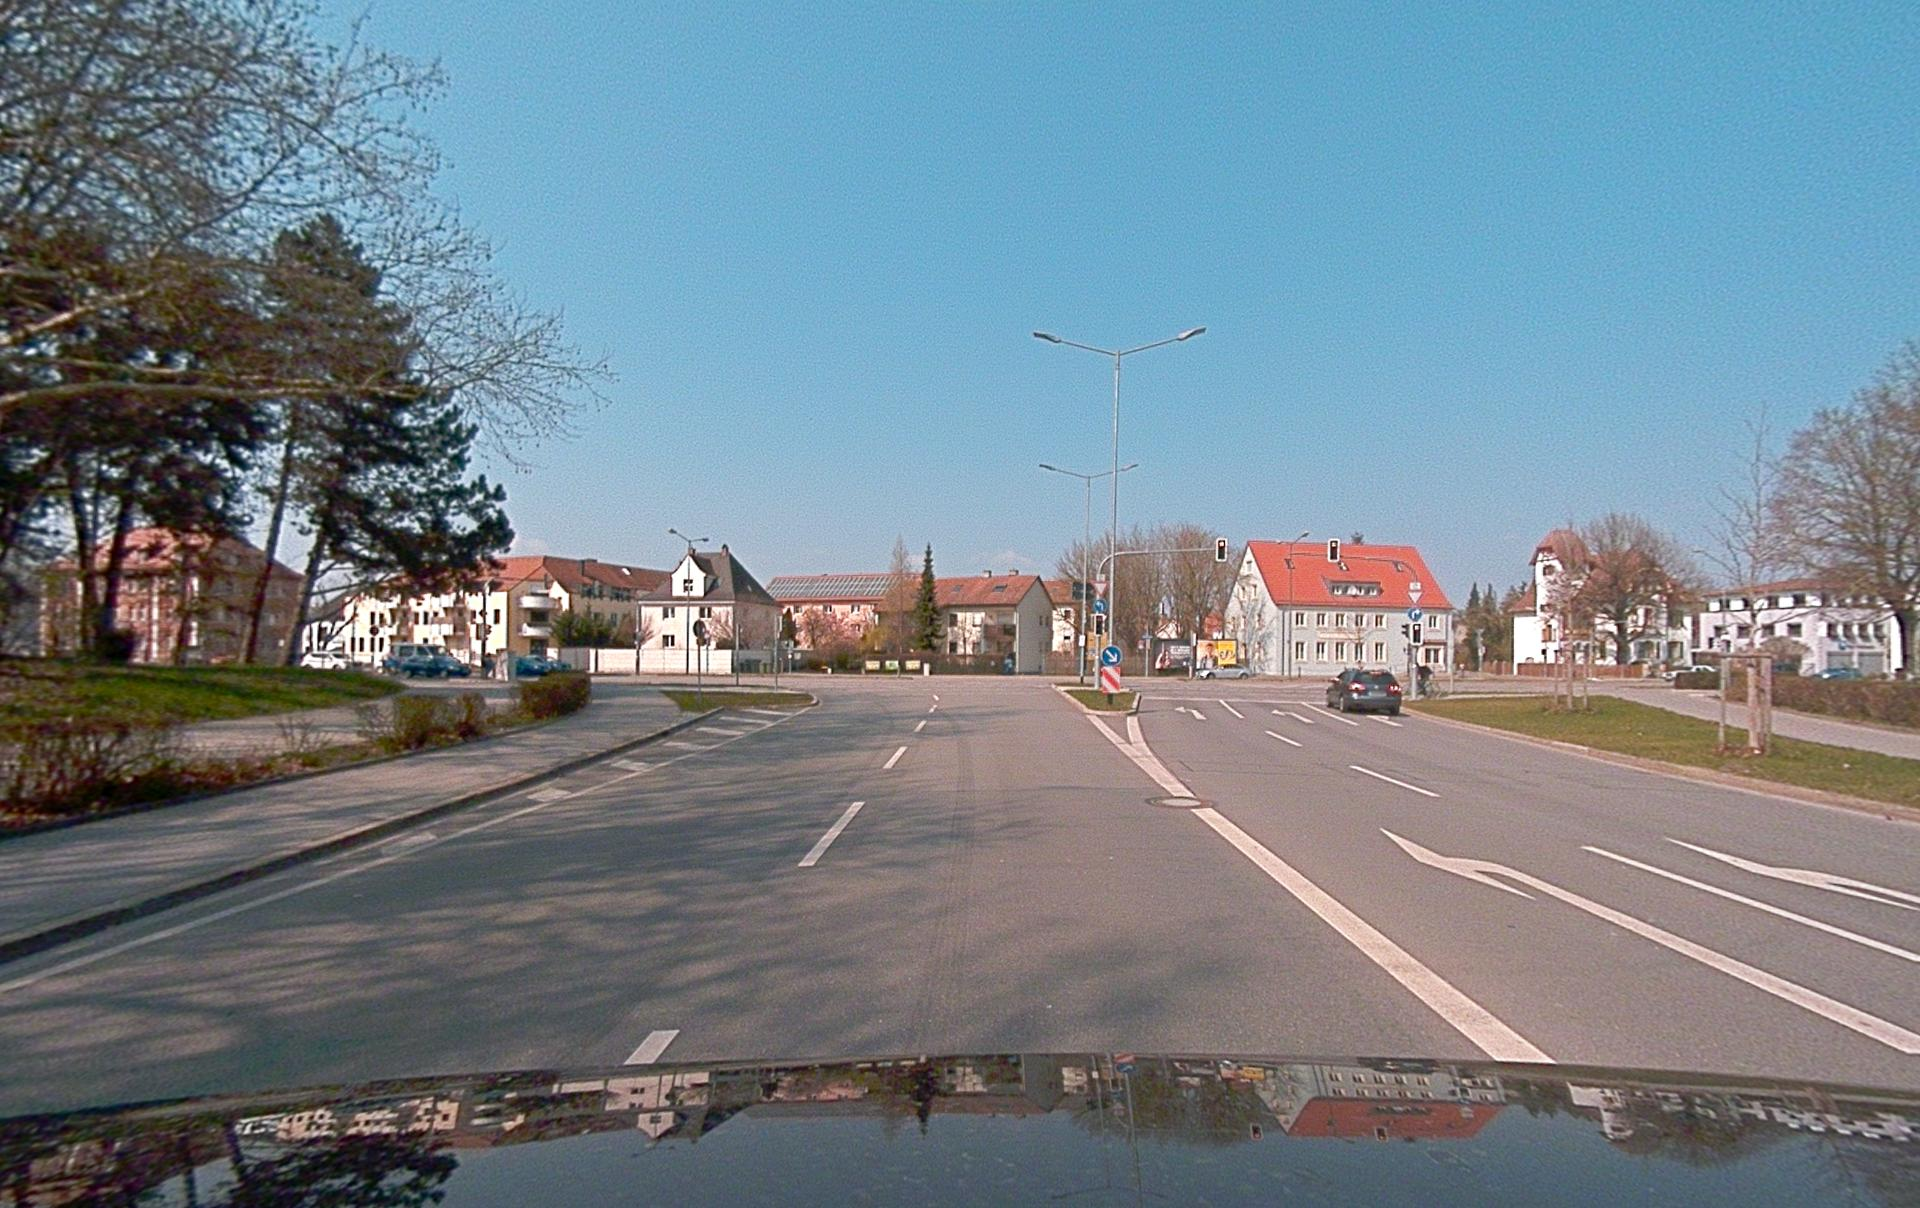car: (1326, 667, 1402, 714), (1197, 666, 1251, 680)
traffic sign: (1100, 645, 1122, 665)
